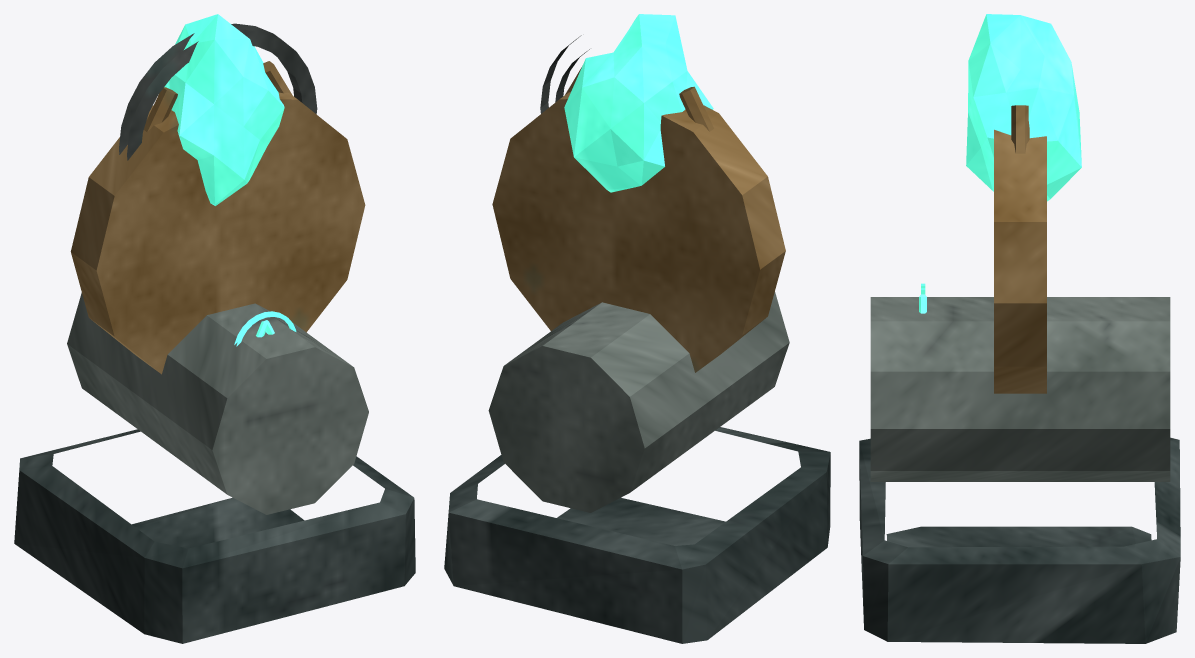
Rendered from 0579_relic_pedestal_04.glb.
The picture shows the model from 3 angles, left to right: view 1: azimuth 30°, elevation 25°; view 2: azimuth 150°, elevation 25°; view 3: azimuth 270°, elevation 25°; orthographic projection. The views are drawn at different scales.
Visible parts, largest first — view 1: brass, stone_dark, stone, glow, iron; view 2: brass, stone_dark, stone, glow, iron; view 3: stone, stone_dark, glow, brass.
Boxes of the visible parts, x1=… form: brass: x1=70, y1=61, x2=365, y2=374; stone_dark: x1=14, y1=429, x2=415, y2=643; stone: x1=67, y1=292, x2=368, y2=514; glow: x1=164, y1=14, x2=296, y2=346; iron: x1=119, y1=23, x2=317, y2=160; brass: x1=492, y1=67, x2=785, y2=372; stone_dark: x1=444, y1=427, x2=830, y2=643; stone: x1=488, y1=292, x2=789, y2=512; glow: x1=564, y1=14, x2=713, y2=192; iron: x1=540, y1=35, x2=589, y2=113; stone: x1=870, y1=297, x2=1170, y2=481; stone_dark: x1=859, y1=437, x2=1180, y2=643; glow: x1=919, y1=14, x2=1081, y2=313; brass: x1=994, y1=105, x2=1046, y2=393.
Size of the model in its own units: 0.9685 by 1.89 by 0.9663.
Materials: 5 (5 with a texture image).
